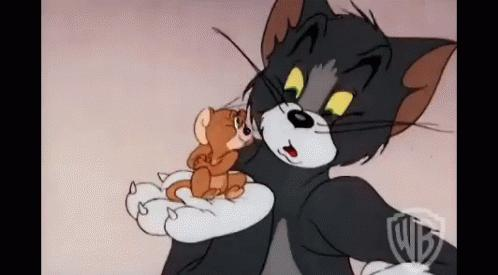jerry: (164, 105, 259, 205)
